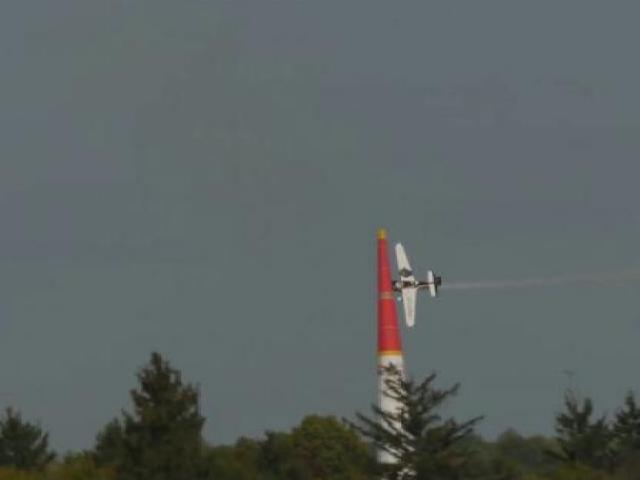uav: (383, 240, 445, 325)
